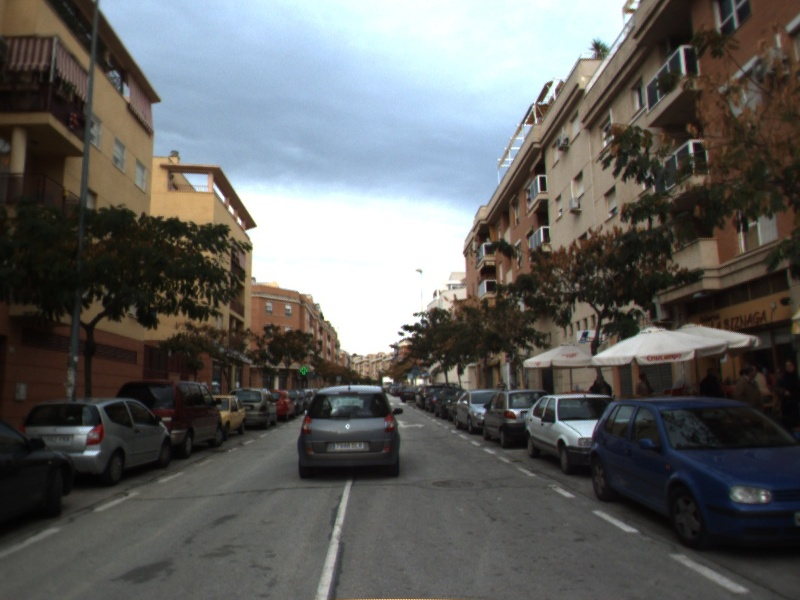STRAIGHT_RIGHT: (395, 418, 427, 430)
